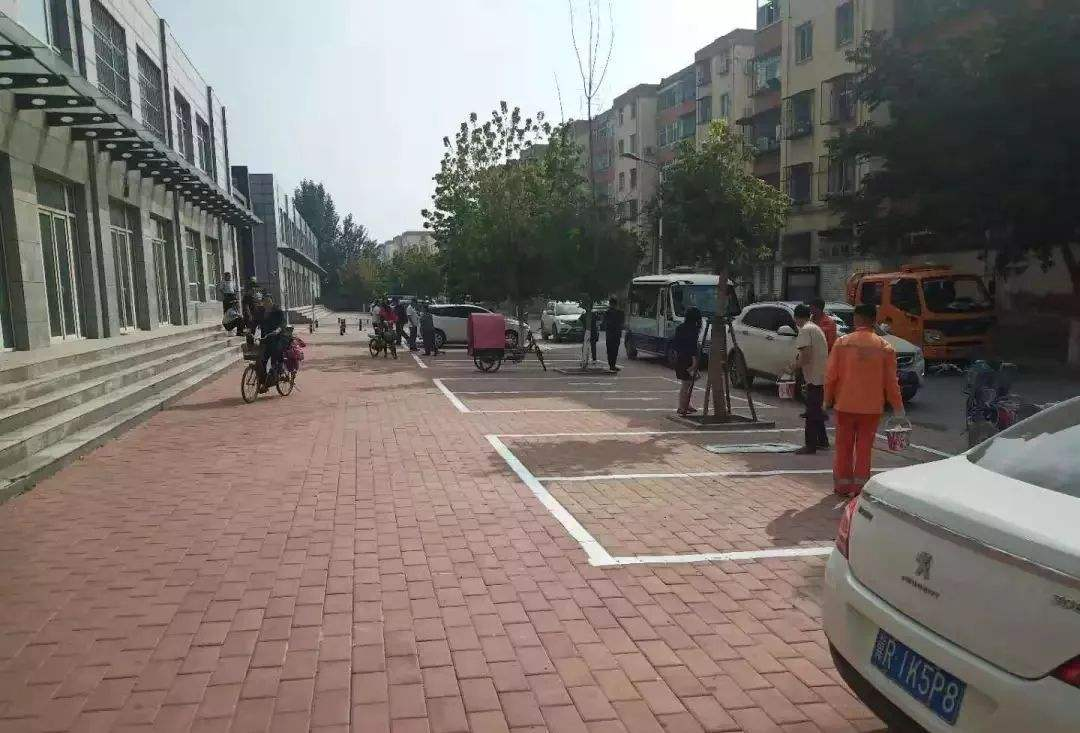slot_nocar: (514, 459, 1015, 581), (460, 418, 976, 492), (436, 383, 783, 421), (422, 364, 710, 399)
